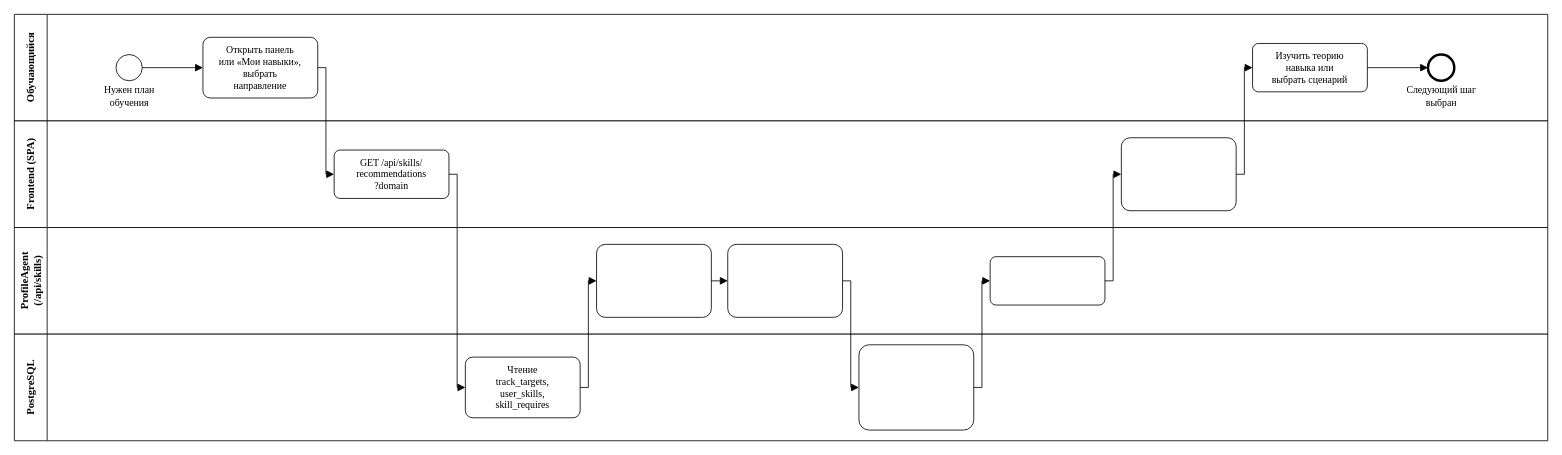
The diagram is 1562 pixels wide and 455 high, and some of its shapes have lost their labels. Each missing label, with the centre of its shape:
Дефициты, рекомендации; карта компетенций с теорией: (1178,174)
Приоритет дефицита: критический, высокий, средний, низкий: (785,280)
Разрыв уровней, давность (> 30 дней), число зависимых навыков: (653,280)
Ранжировать: Σ вес навыка × приоритет: (1047,280)
Чтение опубликованных шаблонов, template_skills, пройденных за 7 дней: (916,387)
